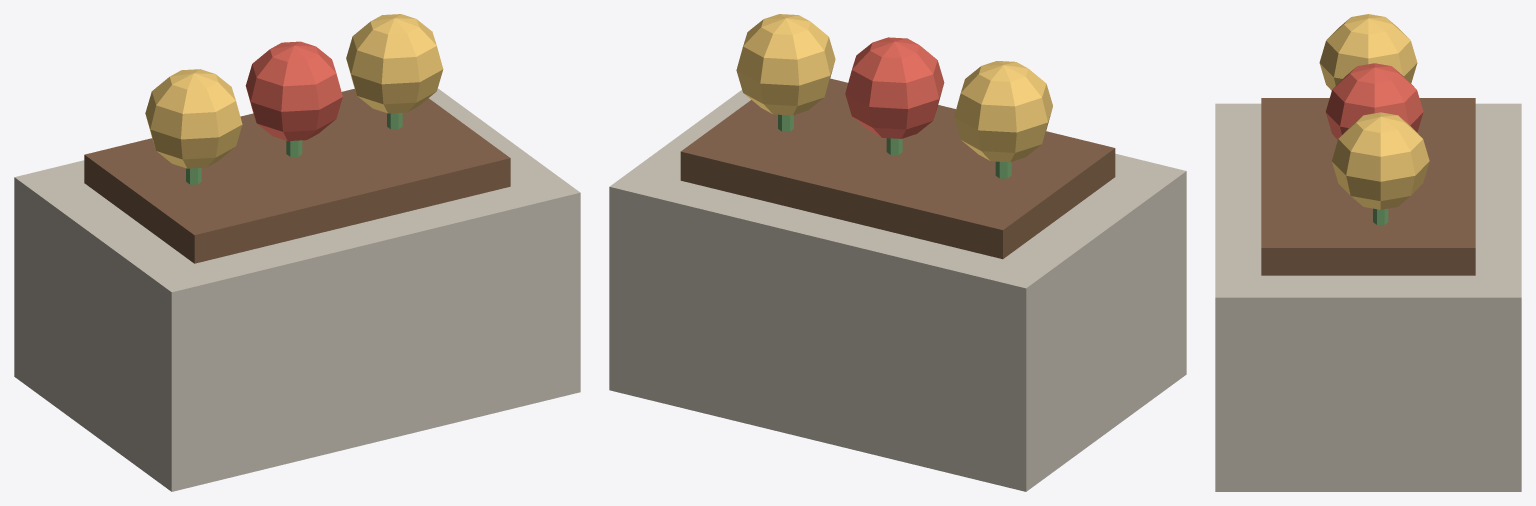
The model's file is planter-CiOf6Q3T.glb.
3 renders of one model, left to right at view 1: azimuth 30°, elevation 25°; view 2: azimuth 150°, elevation 25°; view 3: azimuth 270°, elevation 25°, orthographic. The views are drawn at different scales.
Visible parts, largest first — view 1: Planter_Box, Planter_Soil, Planter_Flower_0, Planter_Flower_1, Planter_Flower_2; view 2: Planter_Box, Planter_Soil, Planter_Flower_2, Planter_Flower_0, Planter_Flower_1; view 3: Planter_Box, Planter_Soil, Planter_Flower_2, Planter_Flower_1, Planter_Flower_0.
Part boxes in pixels (<box>): Planter_Box: <box>14,88,580,491</box>; Planter_Soil: <box>84,89,510,263</box>; Planter_Flower_0: <box>145,69,242,168</box>; Planter_Flower_1: <box>245,41,342,140</box>; Planter_Flower_2: <box>346,14,443,113</box>; Planter_Box: <box>609,90,1186,491</box>; Planter_Soil: <box>680,78,1115,259</box>; Planter_Flower_2: <box>736,14,835,115</box>; Planter_Flower_0: <box>954,61,1052,162</box>; Planter_Flower_1: <box>845,37,944,138</box>; Planter_Box: <box>1215,103,1521,491</box>; Planter_Soil: <box>1261,98,1475,275</box>; Planter_Flower_2: <box>1332,112,1429,209</box>; Planter_Flower_1: <box>1325,63,1423,139</box>; Planter_Flower_0: <box>1319,14,1417,90</box>.
Bounding box in the file's own units: 1.5 × 1.18 × 1.
